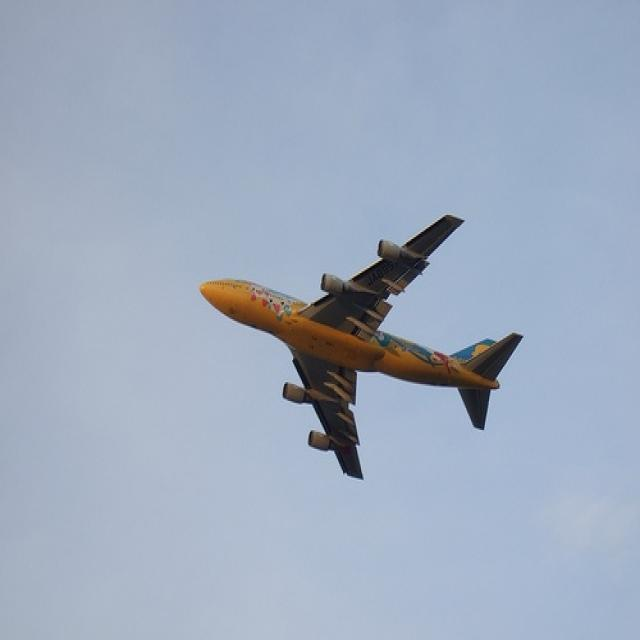aeroplane: (200, 215, 526, 474)
